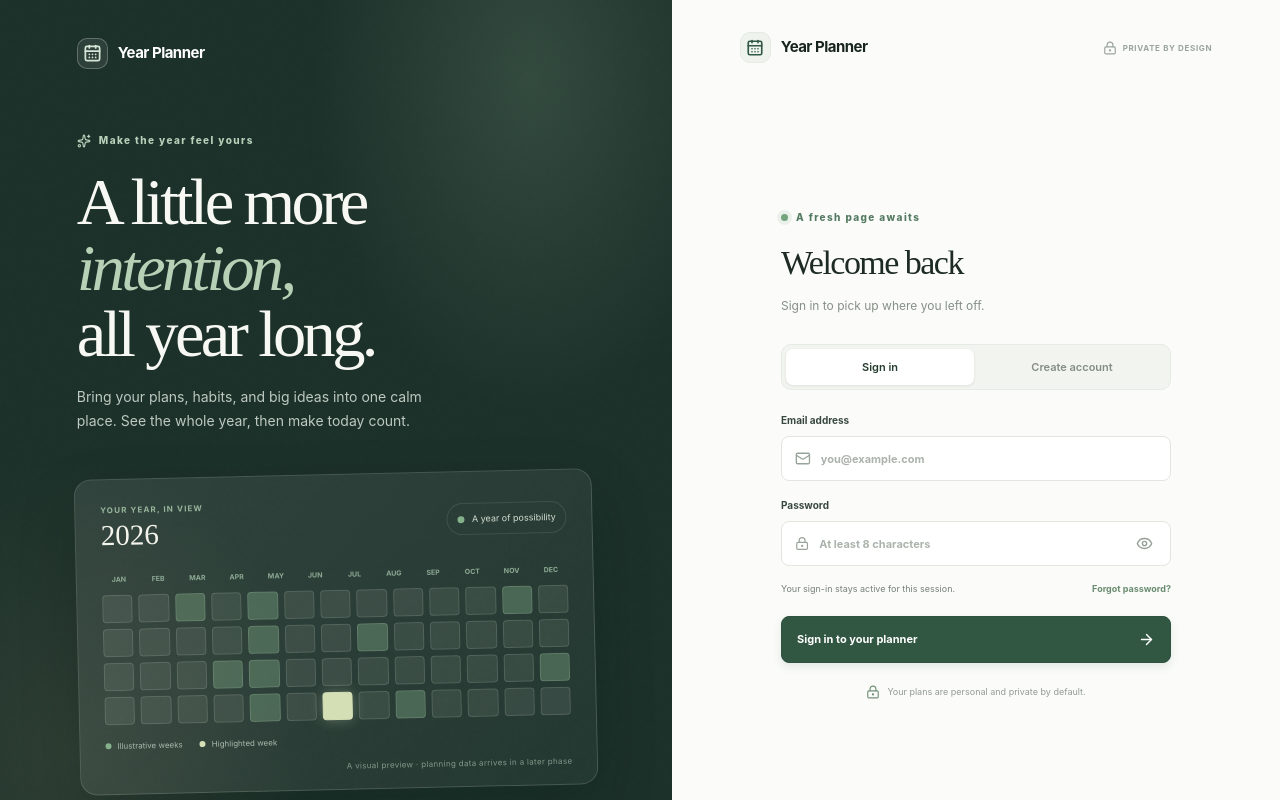
Scenario: AuthPage › requests password recovery without leaving the auth page
The width and height of the screenshot is (1280, 800).
Click the button "Forgot password?": click(1132, 589) [1092,582,1171,596]
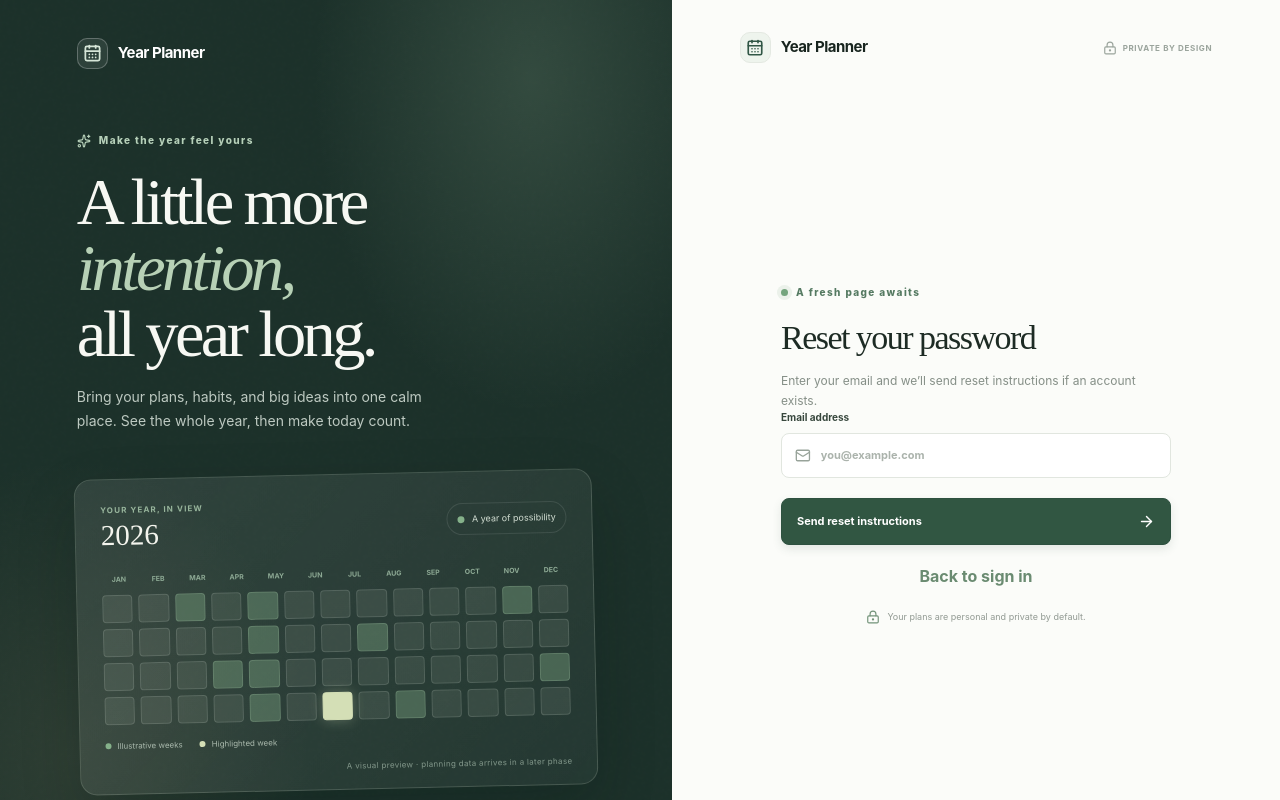
In the field labelled "Email address": (989, 455) [821,447,1157,464], type "maya@example.com"
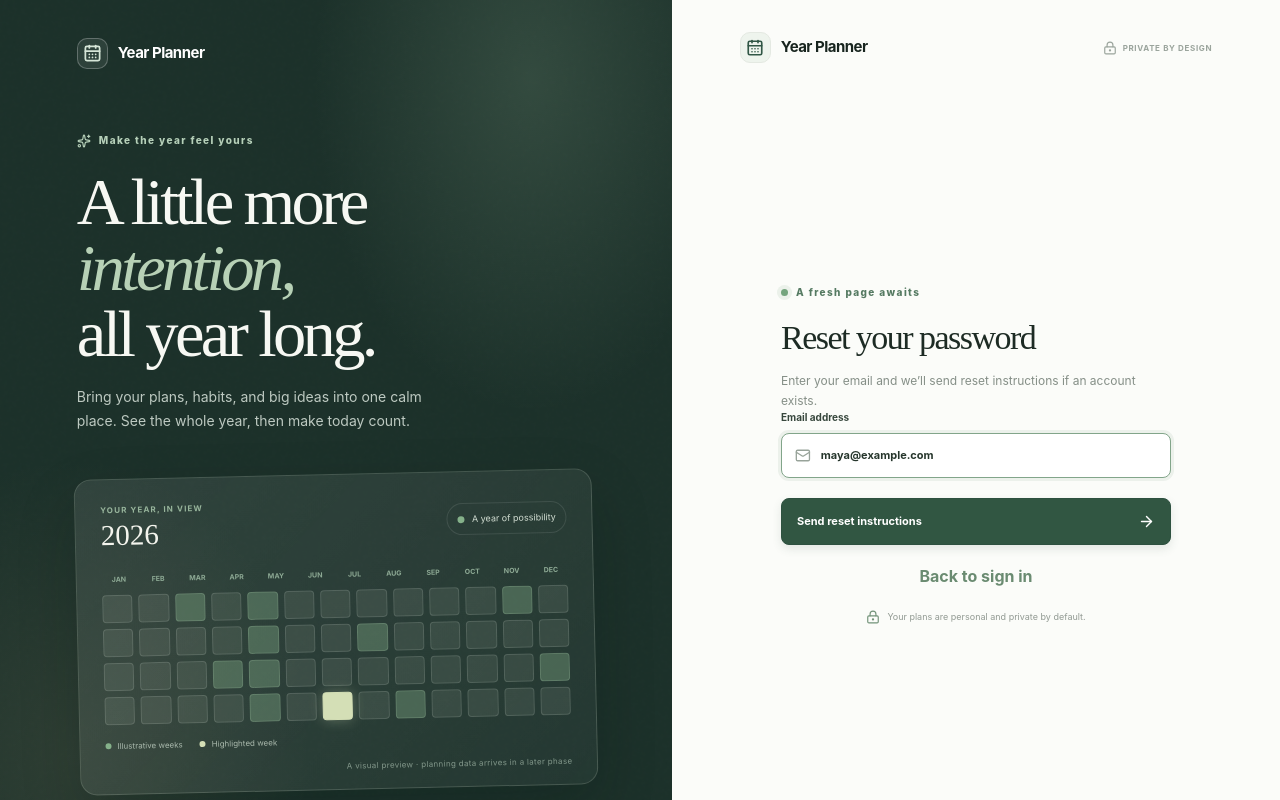
Click the button "Send reset instructions": click(859, 521) [781,498,1171,545]
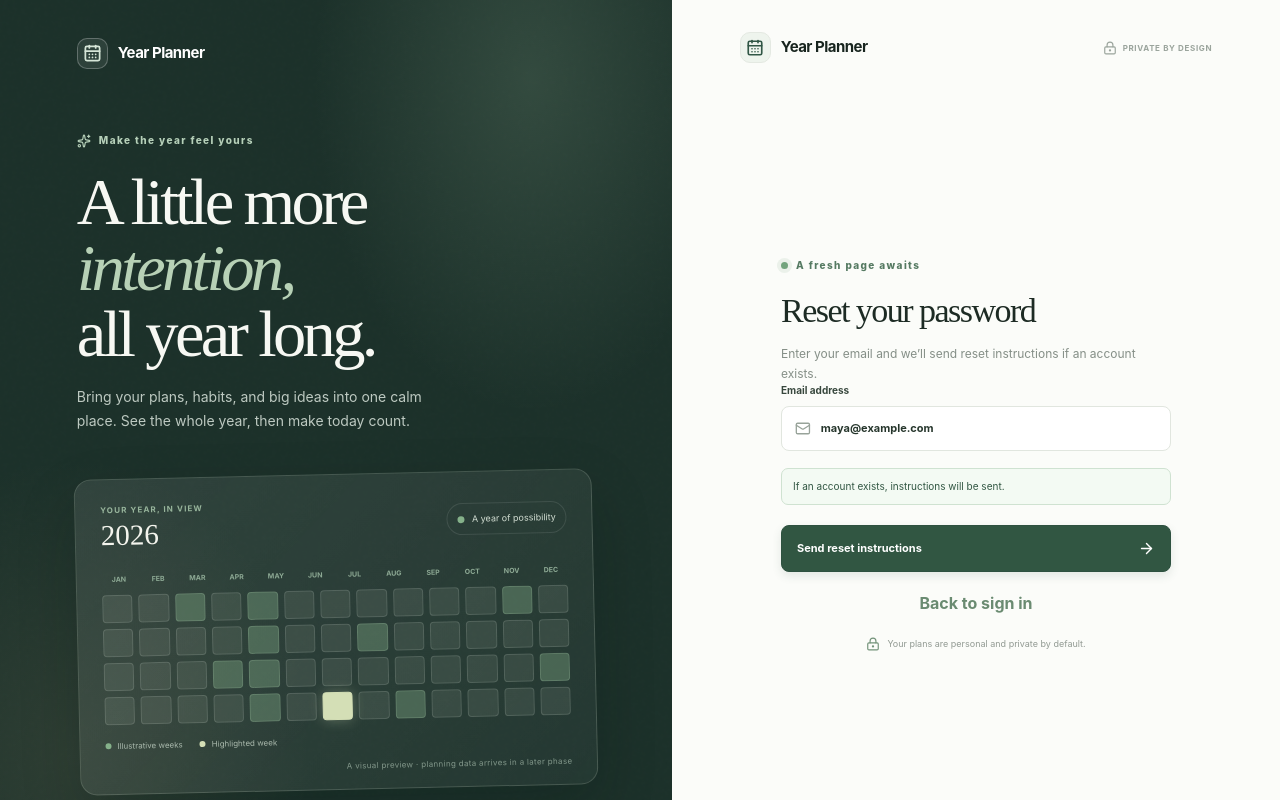
expect the message shows "If an account exists": met, box [793,480,1004,492]
